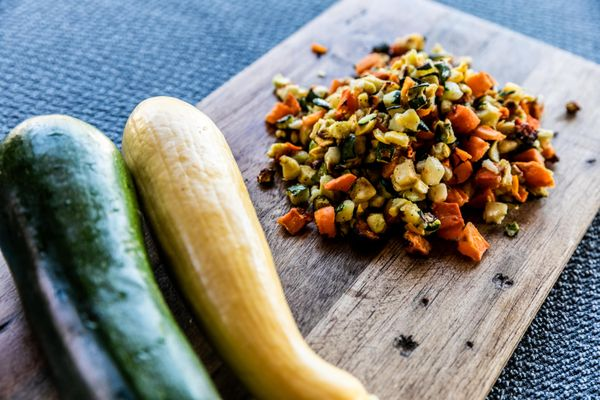burger: (121, 94, 378, 395)
